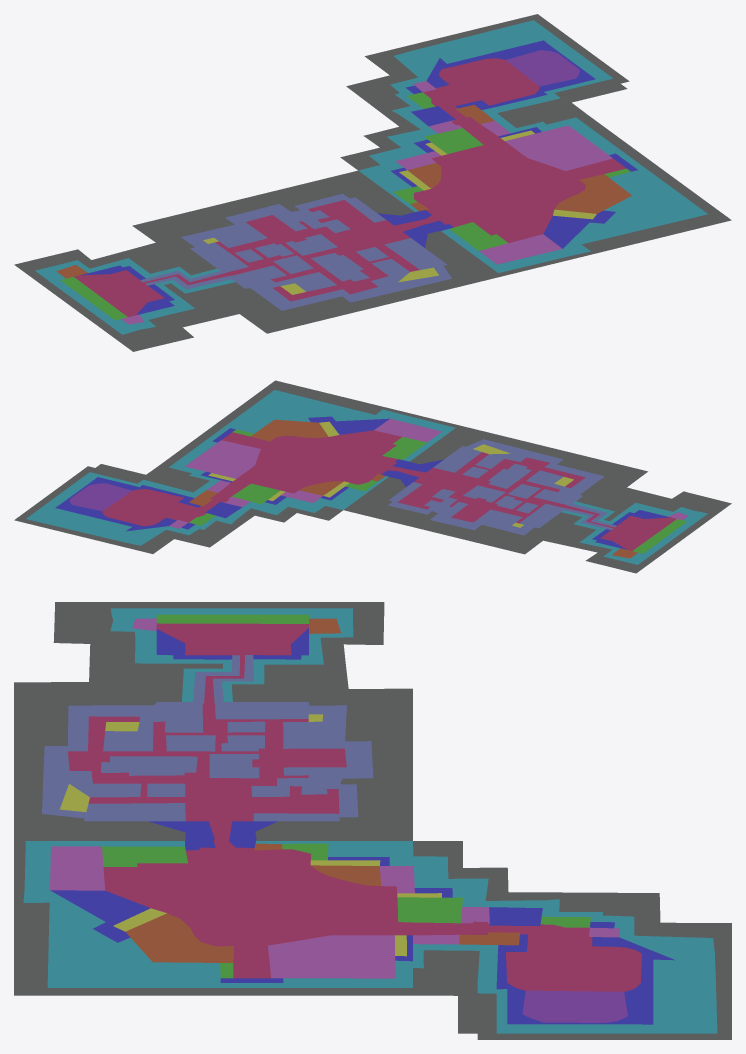
The model's file is World-Build-Layout-TEST-2-Advertising-Hell.fbx.
3 renders of one model, top to bottom at view 1: azimuth 30°, elevation 25°; view 2: azimuth 150°, elevation 25°; view 3: azimuth 270°, elevation 25°, orthographic. The views are drawn at different scales.
Parts seen in each view (by area): view 1: World-Layout-2D; view 2: World-Layout-2D; view 3: World-Layout-2D.
Part boxes in pixels (x1,y1,x2,y2): World-Layout-2D: (14,14,731,351); World-Layout-2D: (14,380,731,573); World-Layout-2D: (14,602,731,1039).
Bounding box in the file's own units: 61421 × 0 × 42575.
